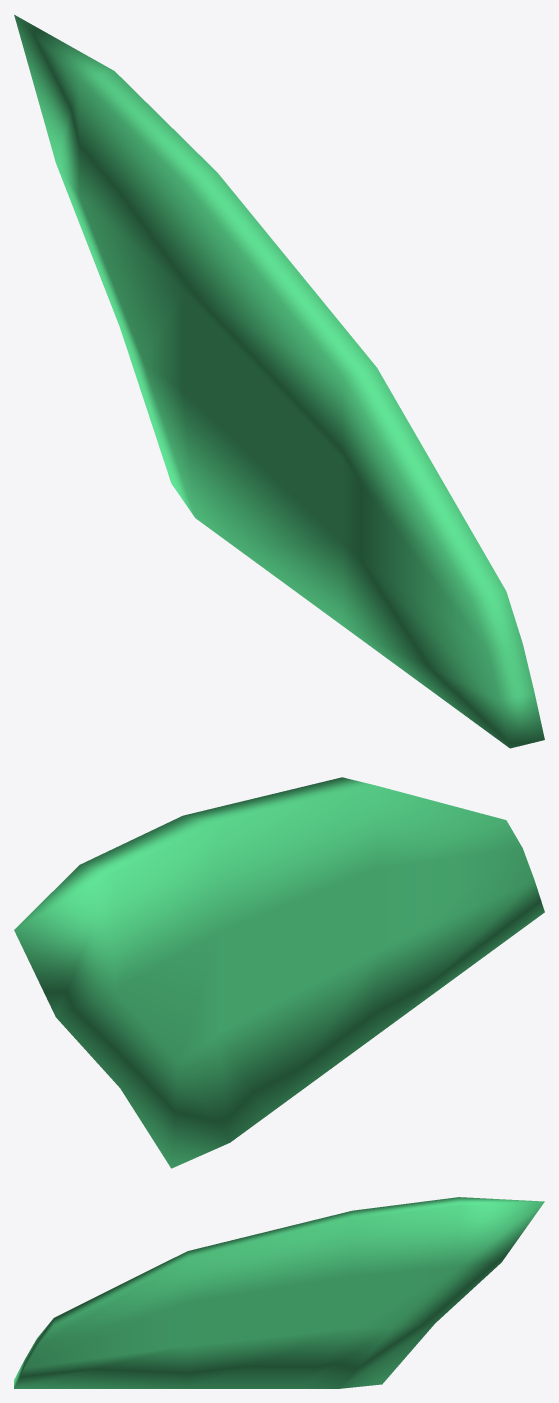
The model's file is dorsal-fin.obj.
3 views of the same model, one above another, from view 1: azimuth 30°, elevation 25°; view 2: azimuth 150°, elevation 25°; view 3: azimuth 270°, elevation 25° (orthographic). The views are drawn at different scales.
Parts seen in each view (by area): view 1: Box003; view 2: Box003; view 3: Box003.
Part boxes in pixels (left/top/right/bottom): Box003: left=14, top=14, right=544, bottom=748; Box003: left=14, top=777, right=544, bottom=1168; Box003: left=14, top=1197, right=544, bottom=1388.
Size of the model in its own units: 0.2198 by 2.13 by 5.6.
